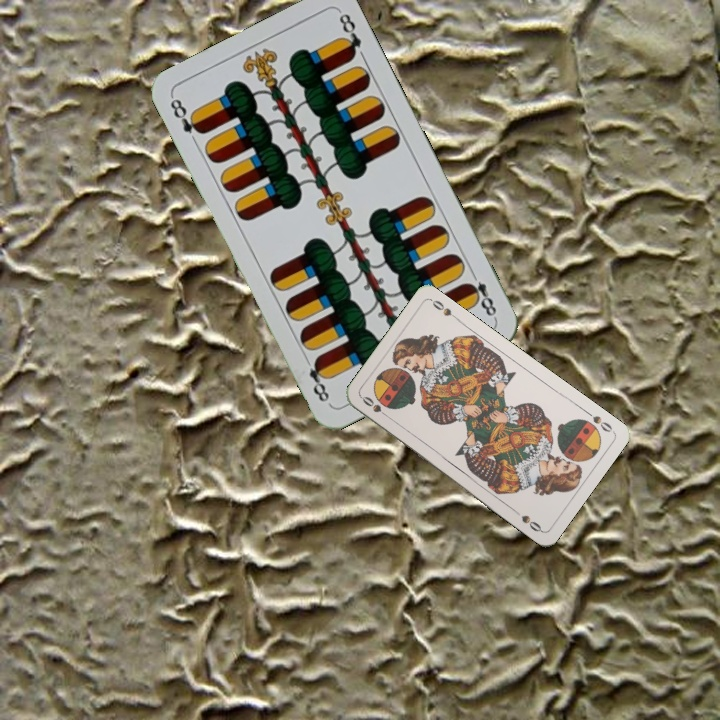E8: (462, 266, 499, 322), (166, 93, 207, 137)
SO: (358, 392, 393, 421), (581, 406, 615, 435)
